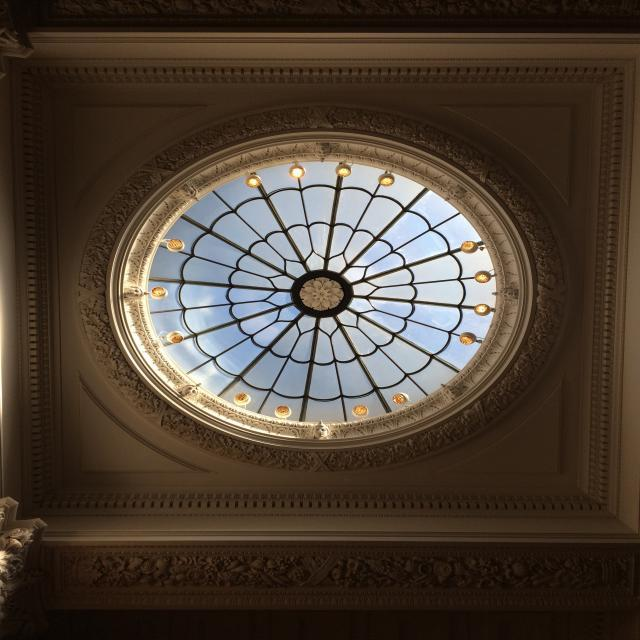Circle: (106, 128, 540, 453), (300, 276, 344, 312), (232, 390, 252, 406), (458, 240, 479, 254), (474, 269, 492, 285), (244, 174, 264, 188), (350, 404, 370, 417), (334, 164, 352, 178), (288, 164, 306, 178), (389, 392, 408, 405), (166, 237, 184, 250), (168, 332, 185, 345), (474, 303, 491, 316), (274, 404, 292, 416), (458, 332, 476, 344), (379, 174, 395, 186), (150, 286, 166, 296)
